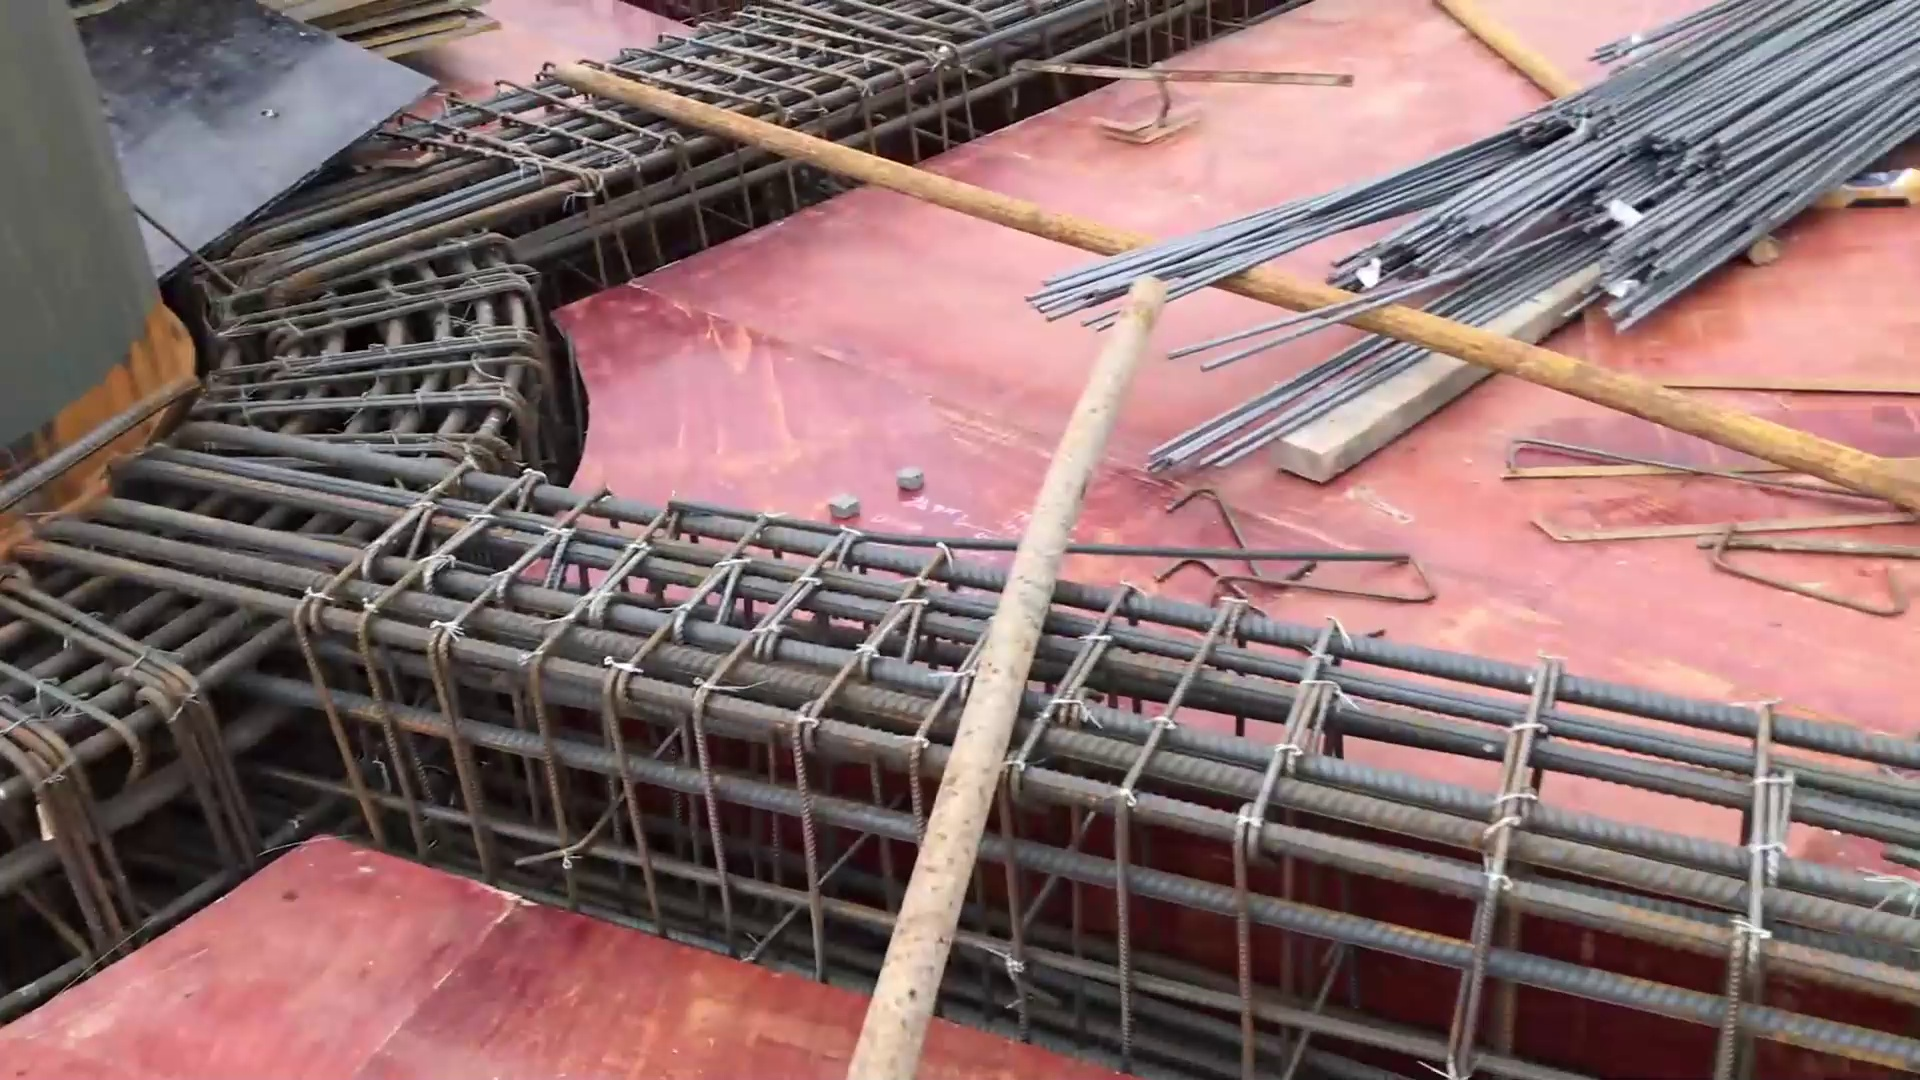rebar: (1025, 1, 1920, 458)
